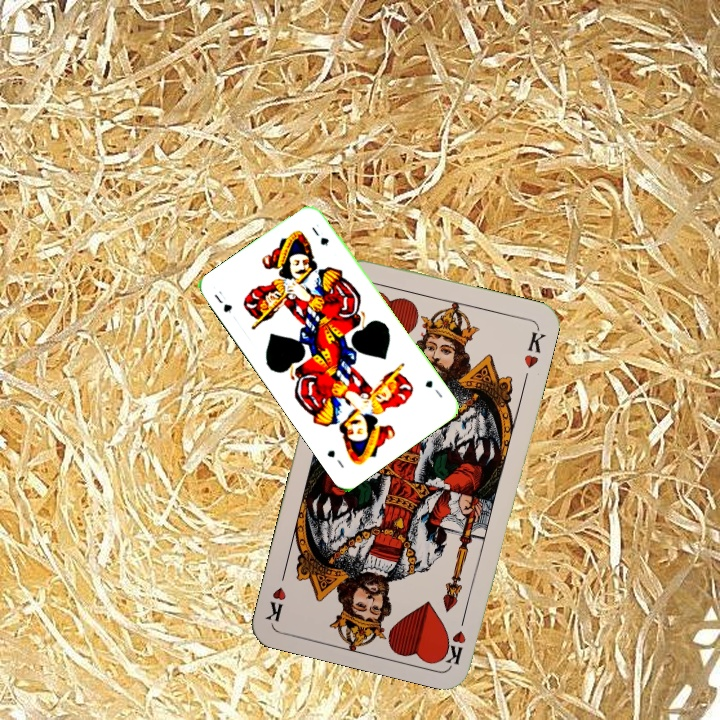GU: (210, 286, 235, 316), (421, 376, 445, 400)
HK: (441, 607, 469, 667)
